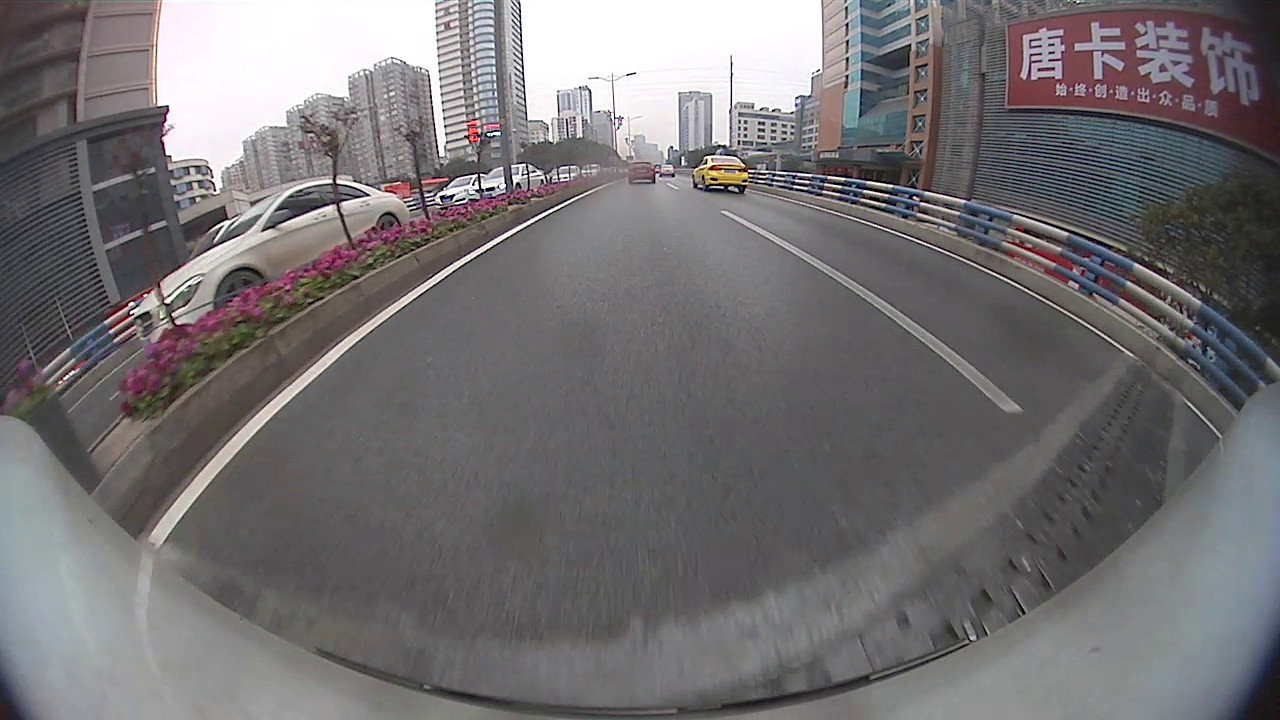car: (126, 175, 414, 353), (472, 159, 551, 199), (690, 147, 752, 196), (433, 171, 489, 212), (626, 161, 658, 184), (549, 163, 582, 185), (579, 162, 602, 179), (659, 163, 676, 178)
front: (214, 268, 268, 315)
rear: (376, 212, 404, 234)
